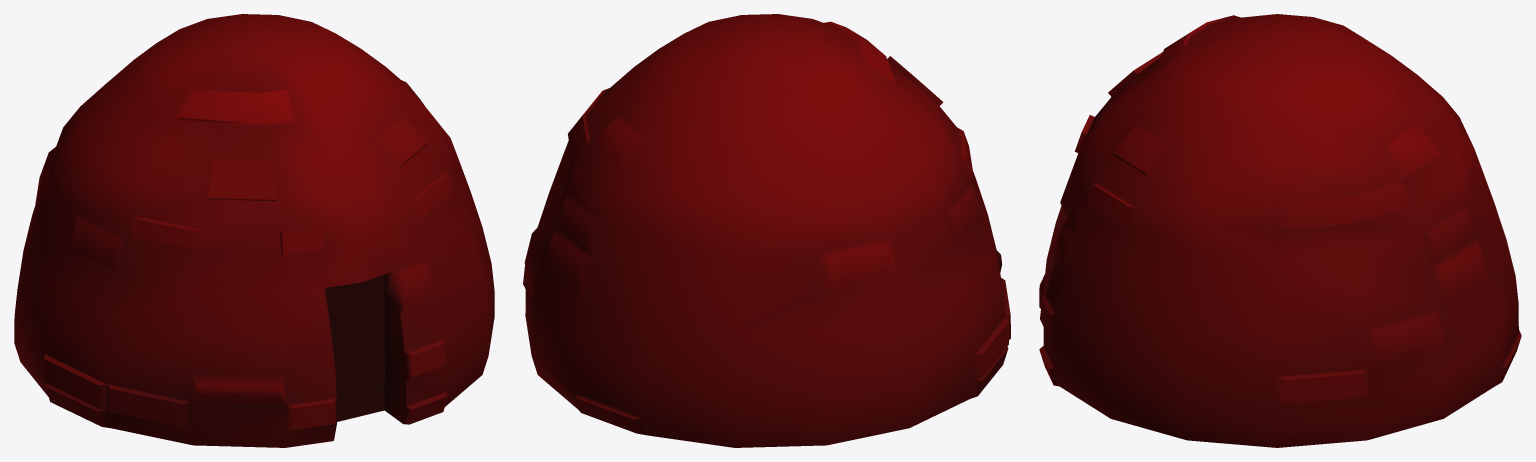
File: buildings-historical-beehivehut_v1.fbx
3 renders of one model, left to right at view 1: azimuth 30°, elevation 25°; view 2: azimuth 150°, elevation 25°; view 3: azimuth 270°, elevation 25°, orthographic.
Parts seen in each view (by area): view 1: BeehiveHut.001; view 2: BeehiveHut.001; view 3: BeehiveHut.001.
Part boxes in pixels (bbox=[...]): BeehiveHut.001: bbox=[14, 14, 494, 447]; BeehiveHut.001: bbox=[523, 14, 1010, 447]; BeehiveHut.001: bbox=[1039, 14, 1521, 447].
Bounding box in the file's own units: 8.72 × 6.19 × 8.57.
